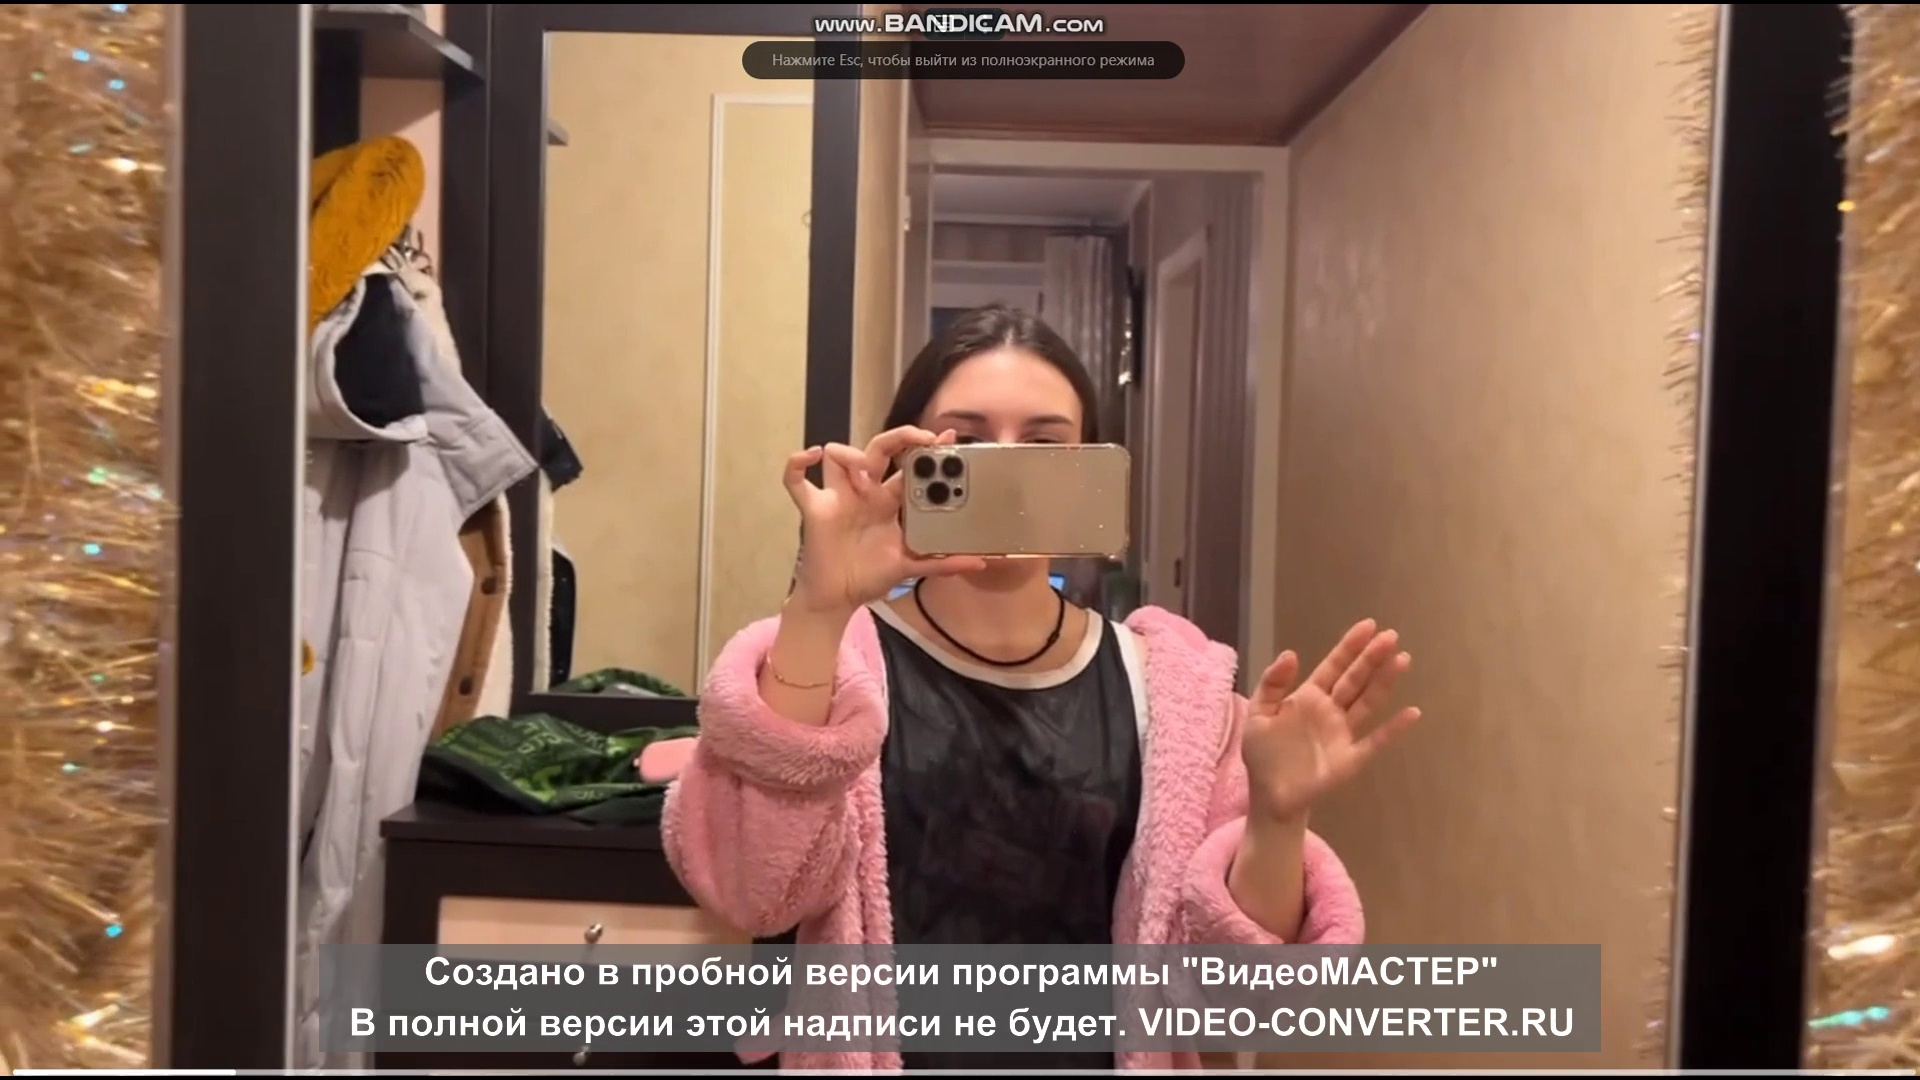Ладонь: (1238, 615, 1423, 823)
